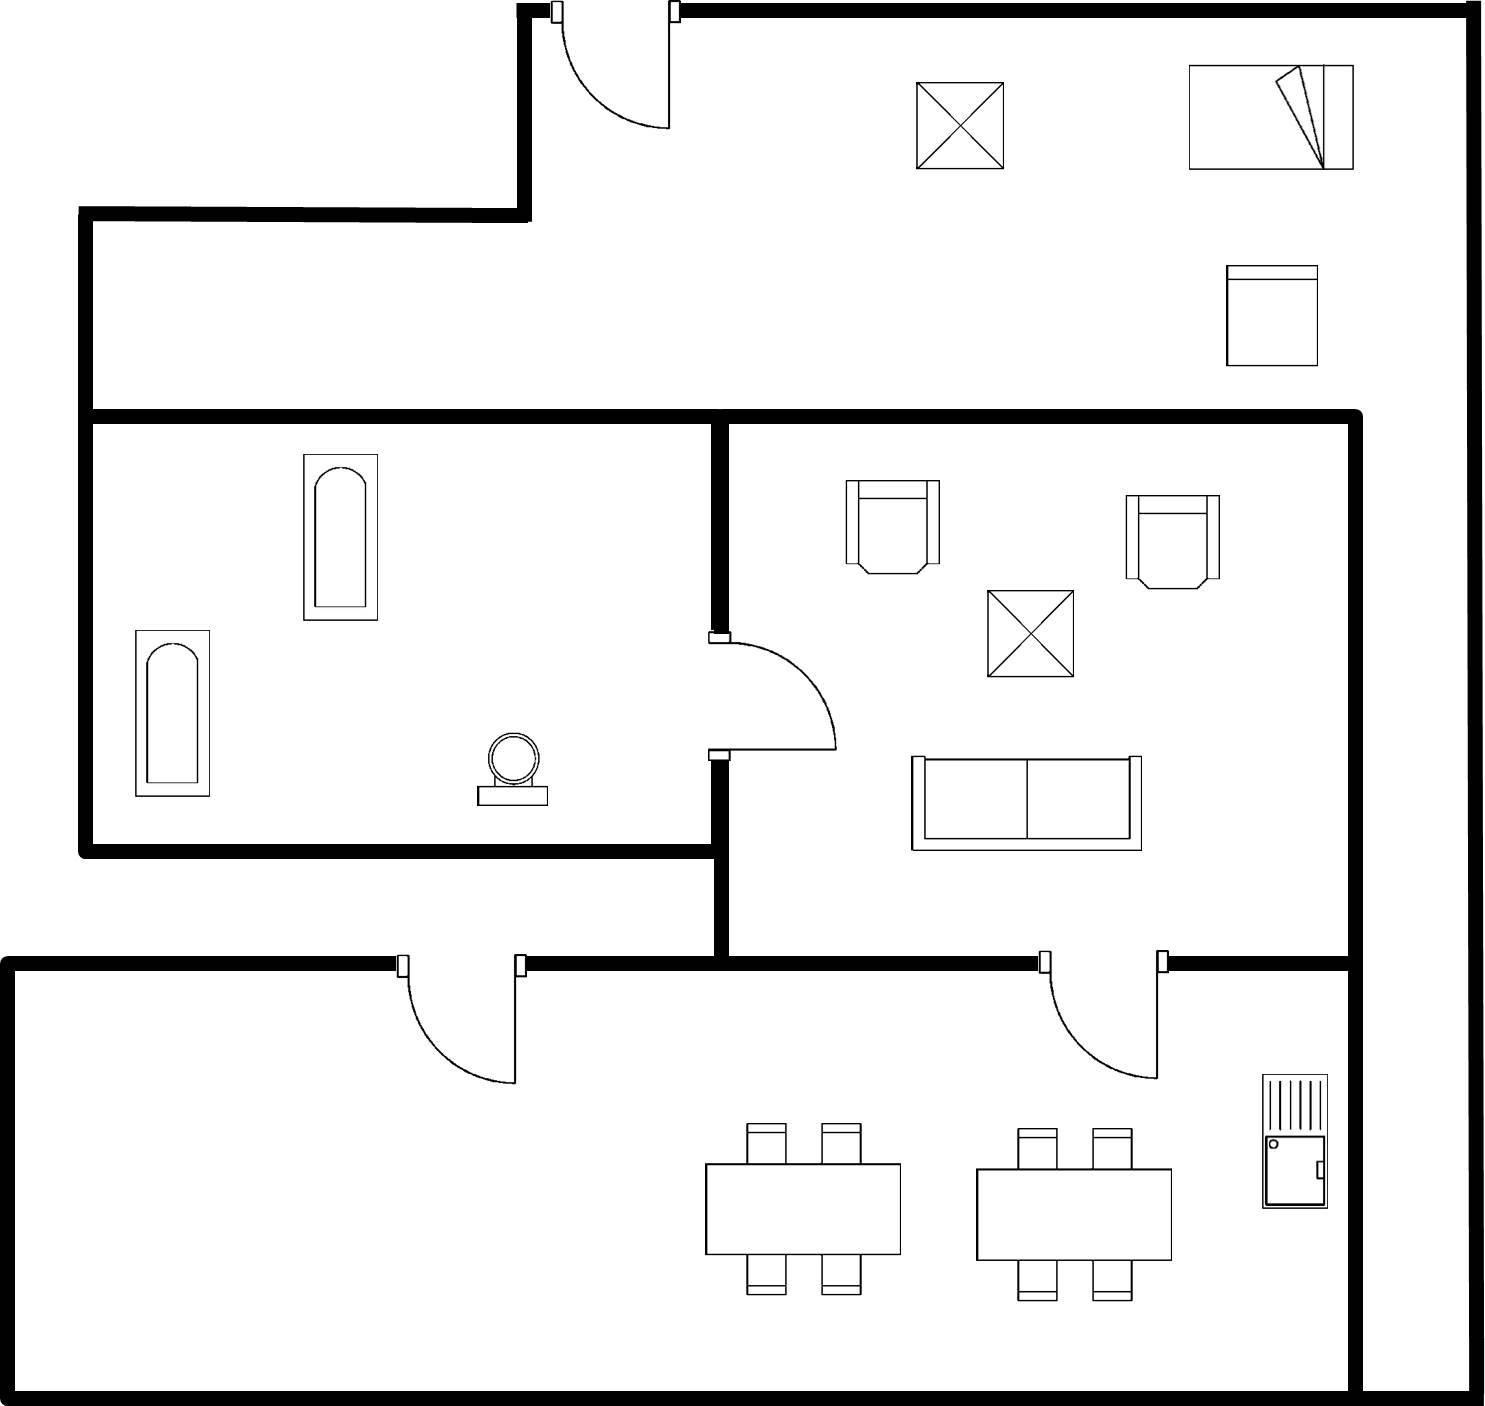bed: (1176, 54, 1365, 184)
dining_table: (963, 1117, 1185, 1310), (691, 1113, 910, 1306)
sink: (1247, 1058, 1337, 1221)
sofa: (894, 744, 1149, 863)
toilet: (462, 724, 565, 818)
tub: (295, 441, 406, 633), (120, 618, 221, 806)
